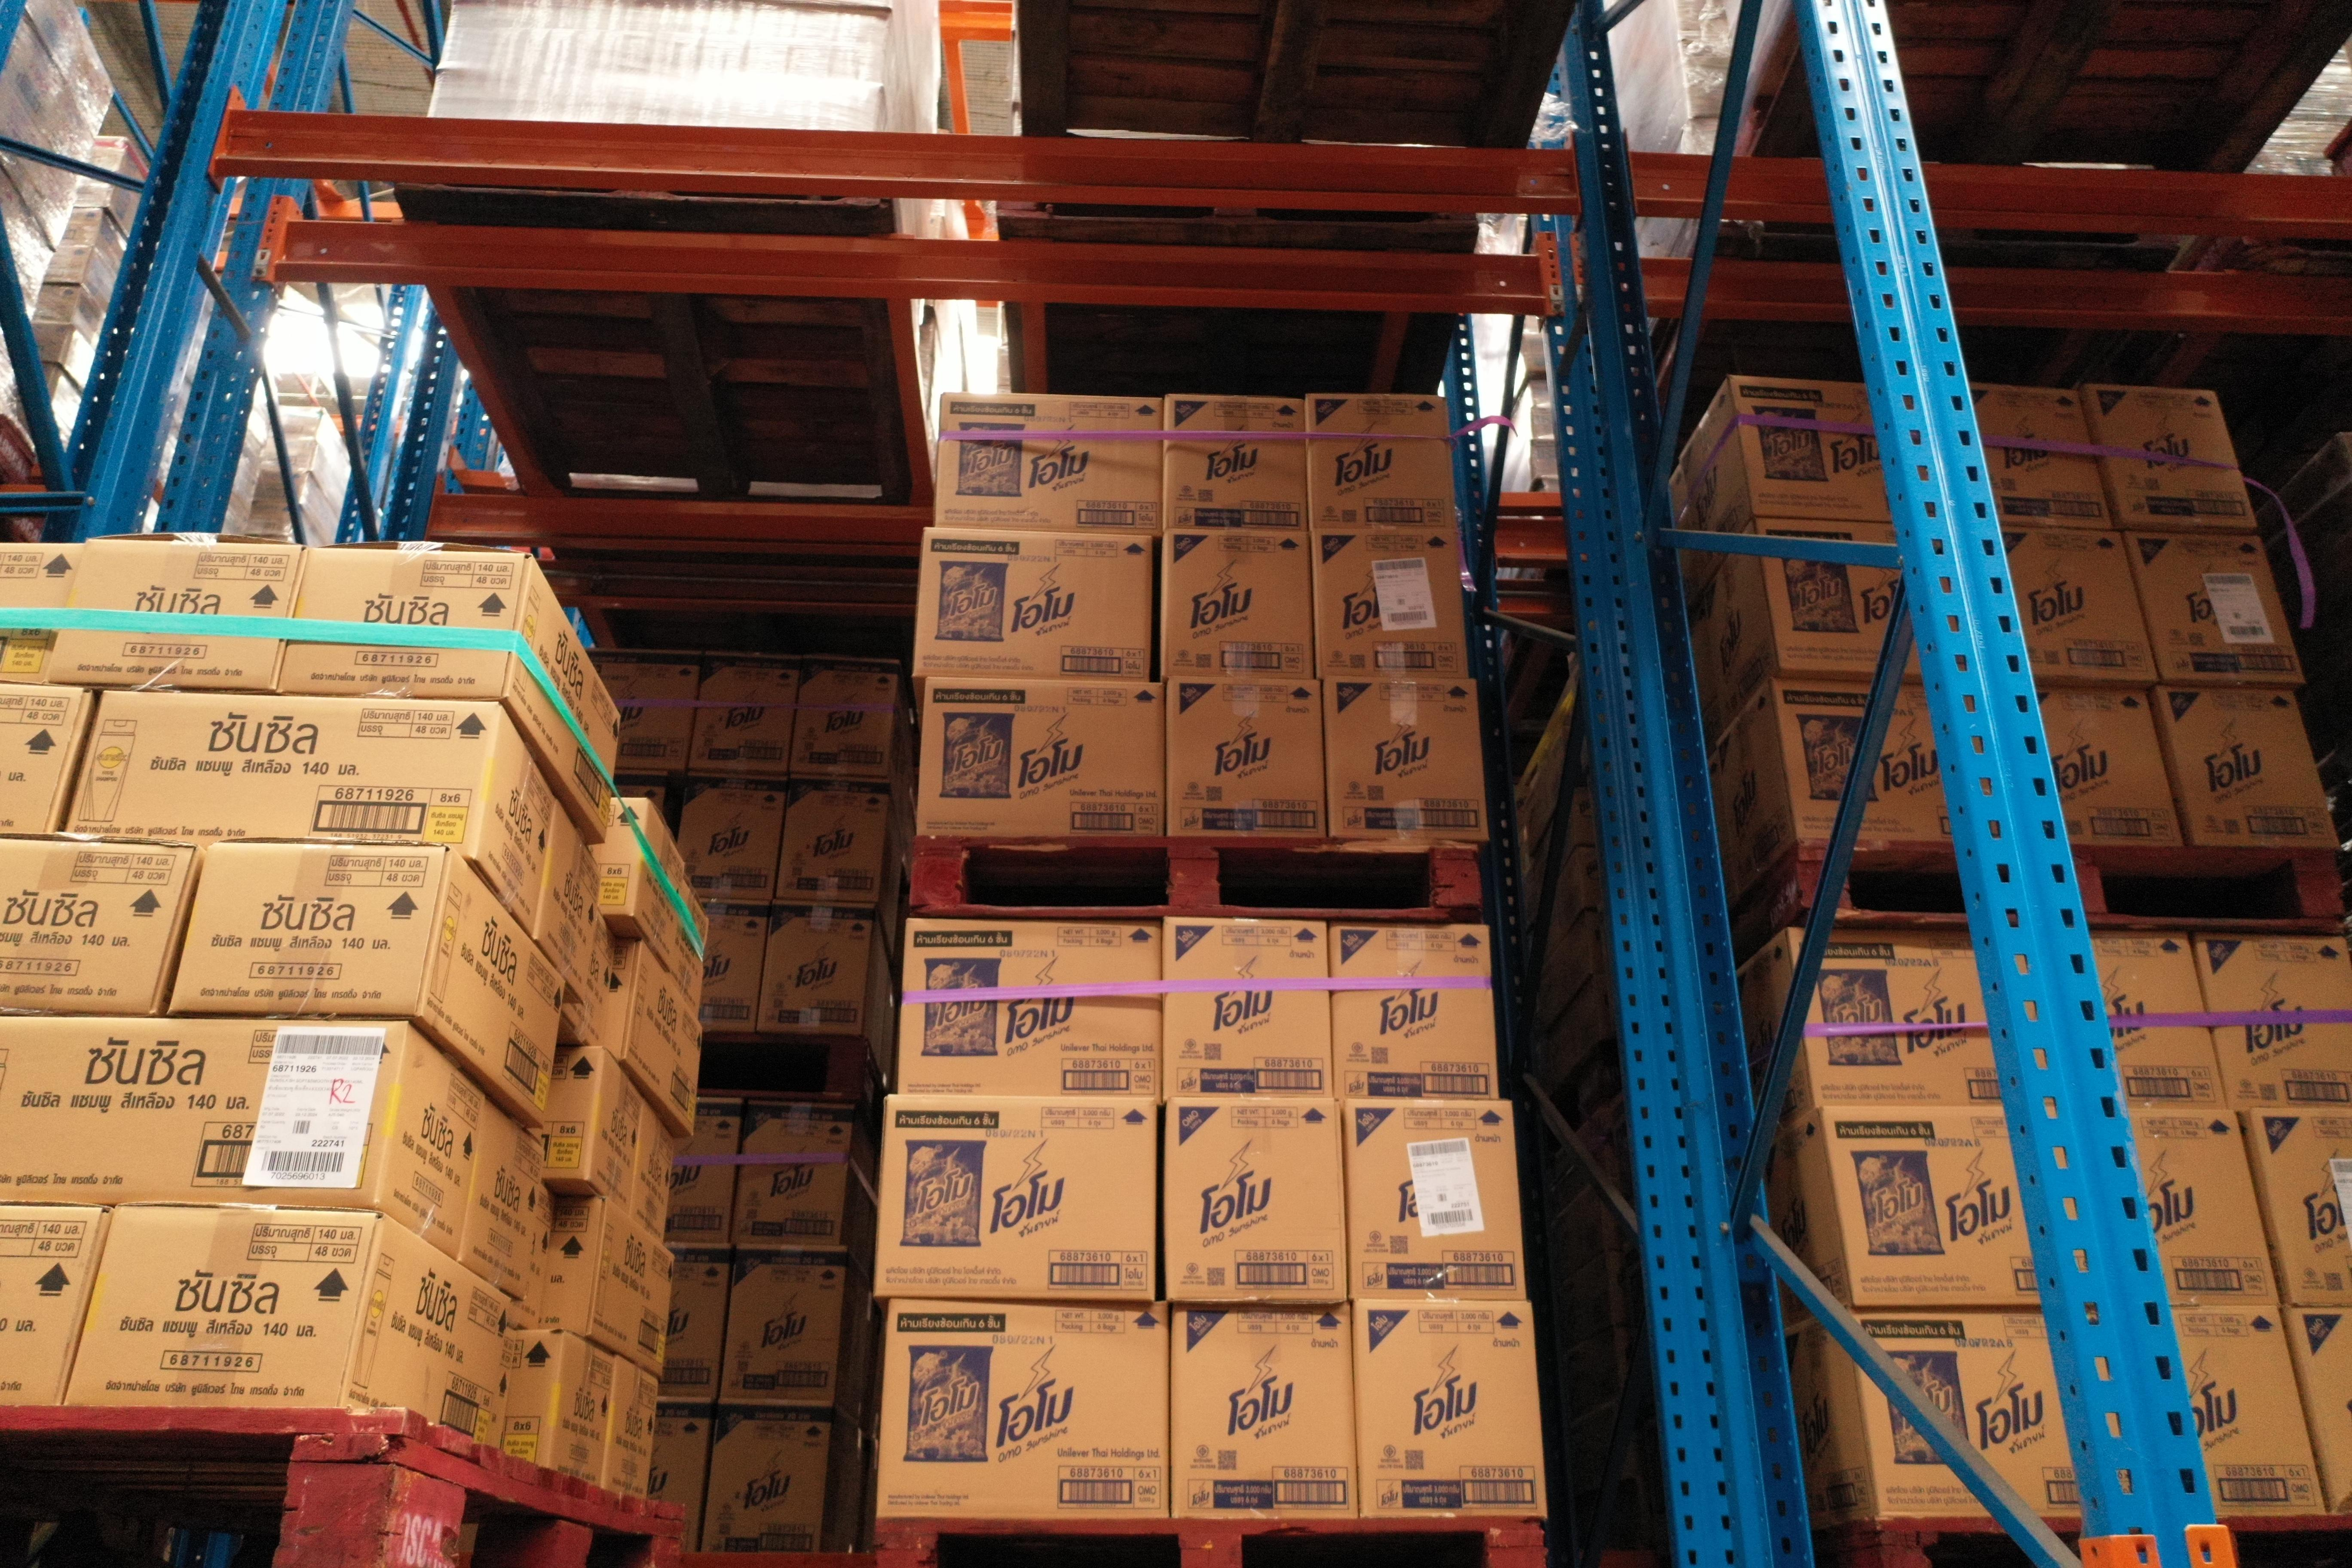-: (0, 1011, 411, 1209), (63, 686, 500, 859), (58, 1204, 378, 1410), (166, 840, 450, 1018), (269, 544, 530, 698), (47, 535, 304, 689), (0, 831, 198, 1015), (0, 1195, 105, 1407), (0, 677, 93, 838), (0, 539, 86, 686)
2: (698, 1398, 833, 1556), (717, 1244, 847, 1402), (728, 1094, 856, 1251), (581, 644, 705, 775), (761, 898, 877, 1038), (672, 770, 789, 903), (773, 772, 887, 906), (689, 649, 801, 779), (789, 656, 898, 775), (661, 1095, 742, 1246), (647, 1395, 717, 1549), (695, 898, 772, 1034), (658, 1249, 724, 1398)
box: (875, 1297, 1171, 1519), (870, 1090, 1157, 1302), (1853, 1309, 2086, 1521), (896, 917, 1162, 1101), (1818, 1102, 2042, 1309), (1351, 1298, 1552, 1519), (1781, 924, 2005, 1111), (1169, 1302, 1360, 1521), (913, 675, 1165, 840), (1162, 1095, 1349, 1304), (1340, 1095, 1526, 1302), (913, 525, 1157, 679), (2170, 1302, 2336, 1521), (1158, 915, 1335, 1101), (933, 394, 1162, 535), (2149, 688, 2343, 849), (1330, 922, 1500, 1104), (1771, 670, 1949, 842), (2121, 525, 2310, 686), (2128, 1109, 2280, 1307), (1321, 670, 1491, 847), (2187, 931, 2352, 1109), (1753, 518, 1925, 681), (2082, 383, 2264, 534), (1165, 677, 1330, 842), (1998, 527, 2161, 684), (2086, 931, 2226, 1113), (2033, 684, 2187, 849), (1725, 374, 1893, 520), (1158, 527, 1316, 681), (1311, 528, 1470, 681), (1967, 380, 2117, 534), (2240, 1106, 2352, 1307), (1160, 394, 1307, 535), (1304, 394, 1452, 534), (2277, 1302, 2352, 1515)
